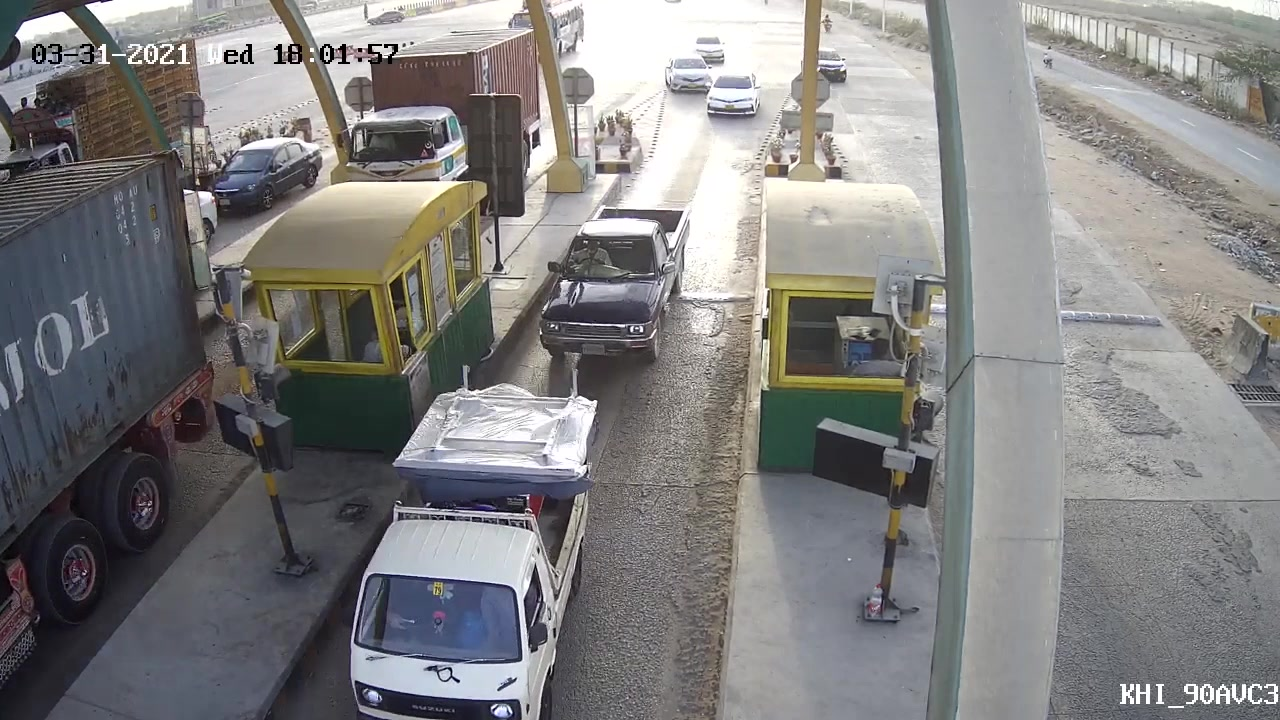F1: (535, 195, 690, 368)
